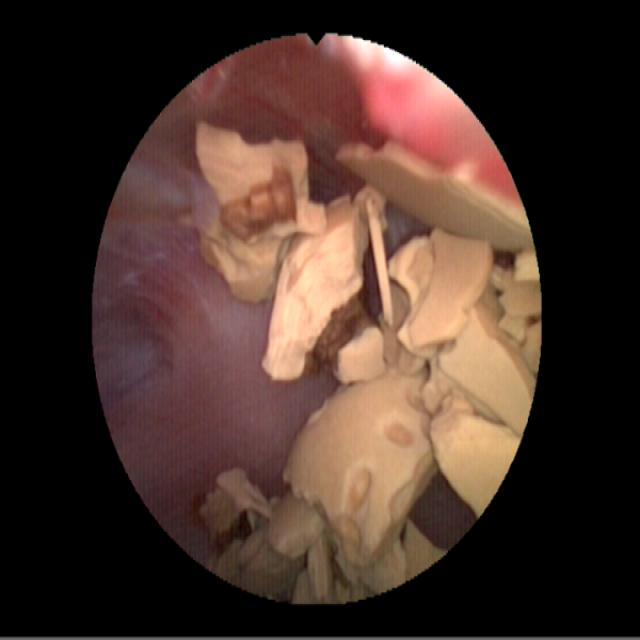stone: (195, 124, 529, 598)
tissue: (98, 40, 497, 538), (420, 485, 467, 547)
